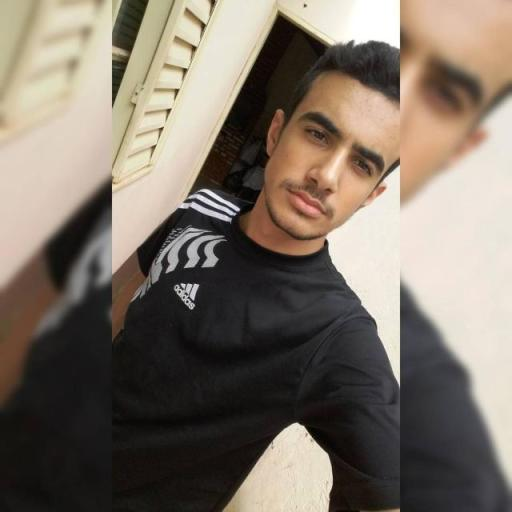Adidas: (172, 280, 200, 310)
